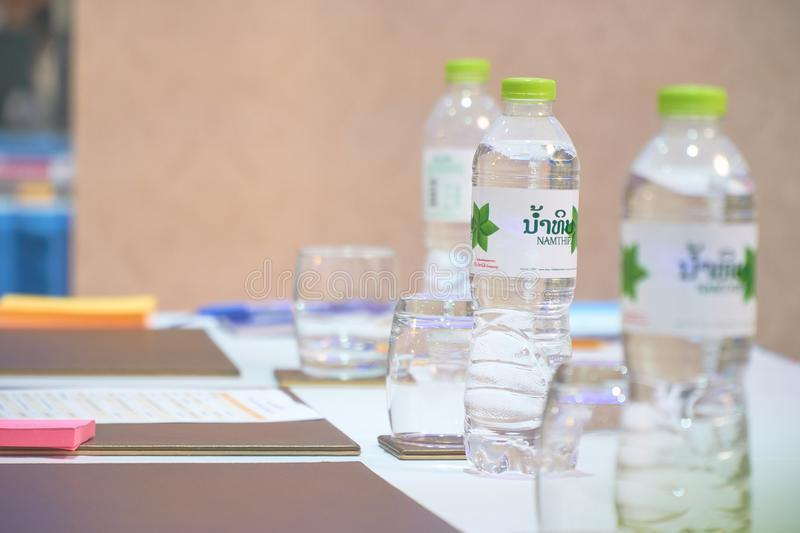bottle: (606, 76, 758, 533), (456, 70, 590, 482), (415, 45, 520, 382)
